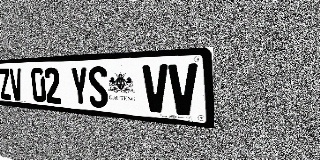0: (30, 67, 46, 103)
2: (44, 67, 61, 104)
S: (88, 66, 109, 108)
V: (169, 63, 198, 116), (142, 64, 169, 114), (9, 68, 23, 101)
Y: (70, 66, 89, 107)
Z: (0, 68, 12, 100)
